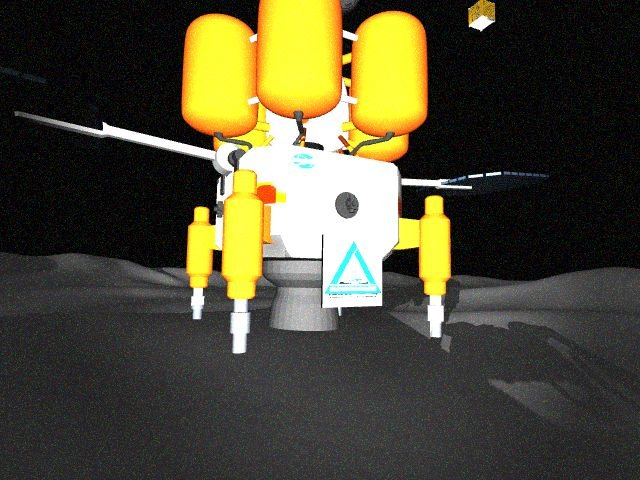basemarker: (323, 239, 383, 300)
